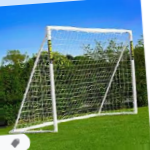goals: (8, 23, 137, 135)
